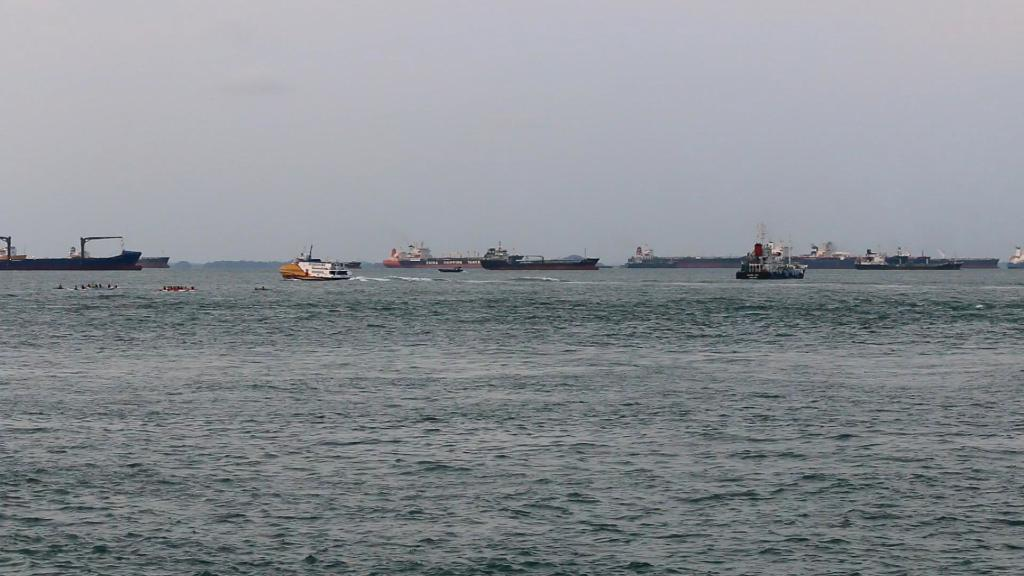PassengerShip: (736, 220, 812, 280), (280, 246, 346, 282)
